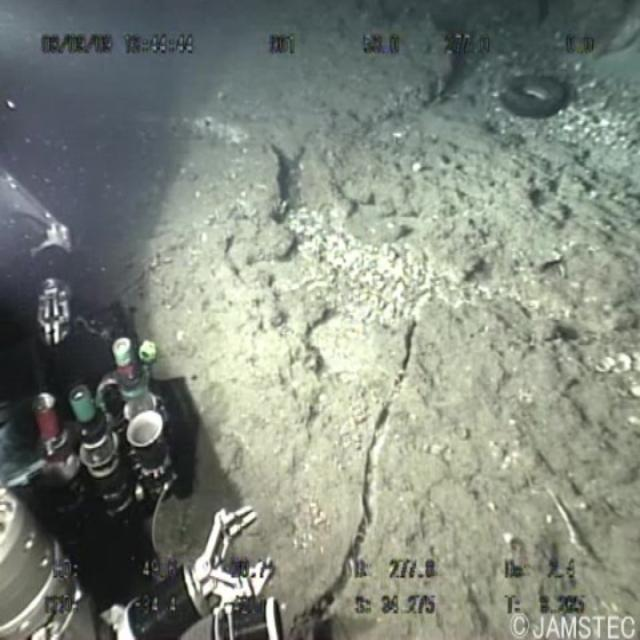Rubber: (490, 68, 582, 140)
